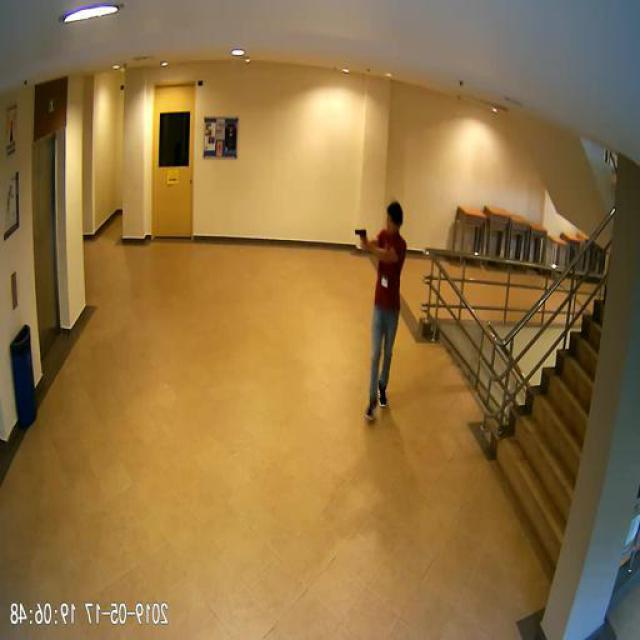Gun: (356, 228, 369, 248)
